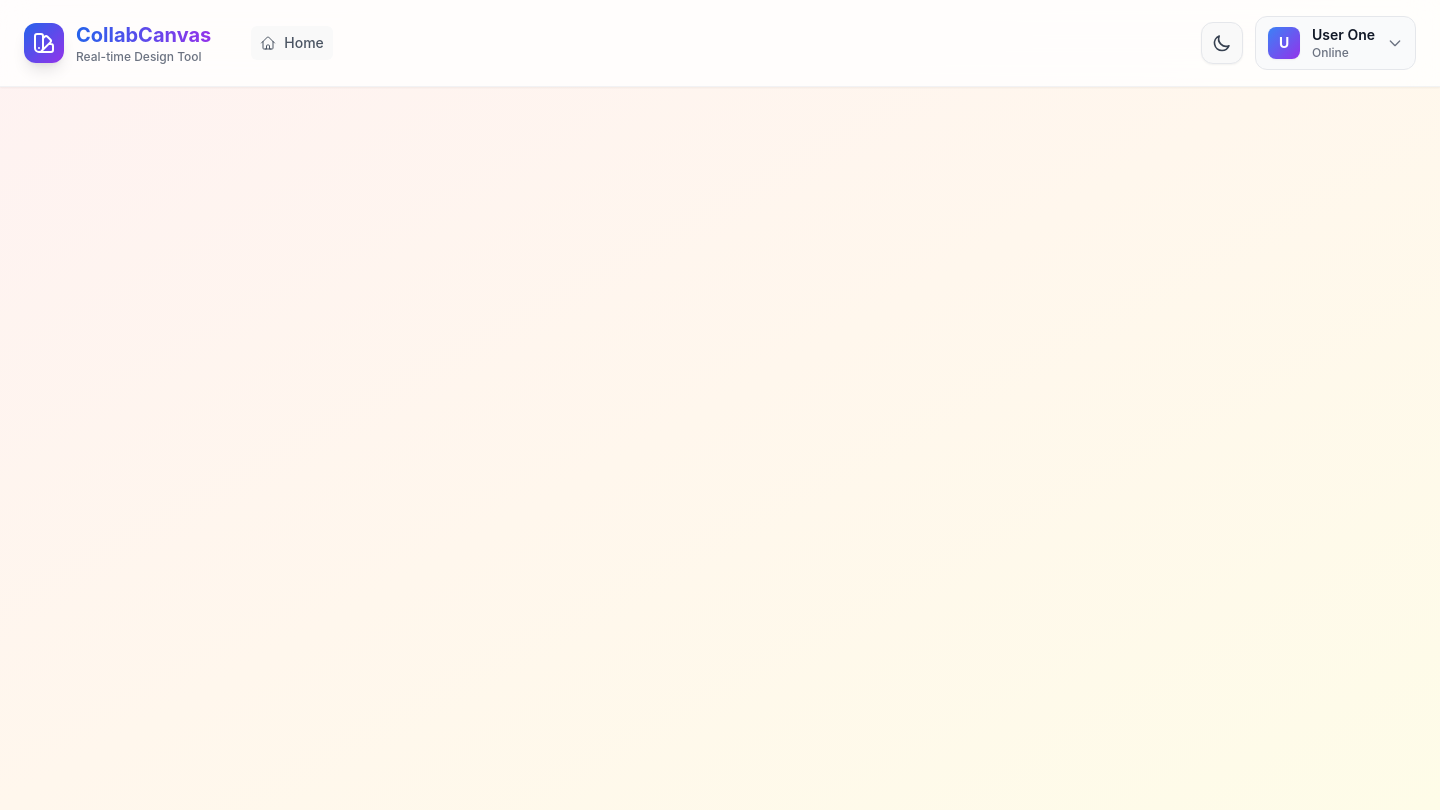
Test: Navbar › User Menu › should close user menu when clicking outside
Click the text "User One".
click(1344, 35)  # box [1312, 25, 1375, 45]
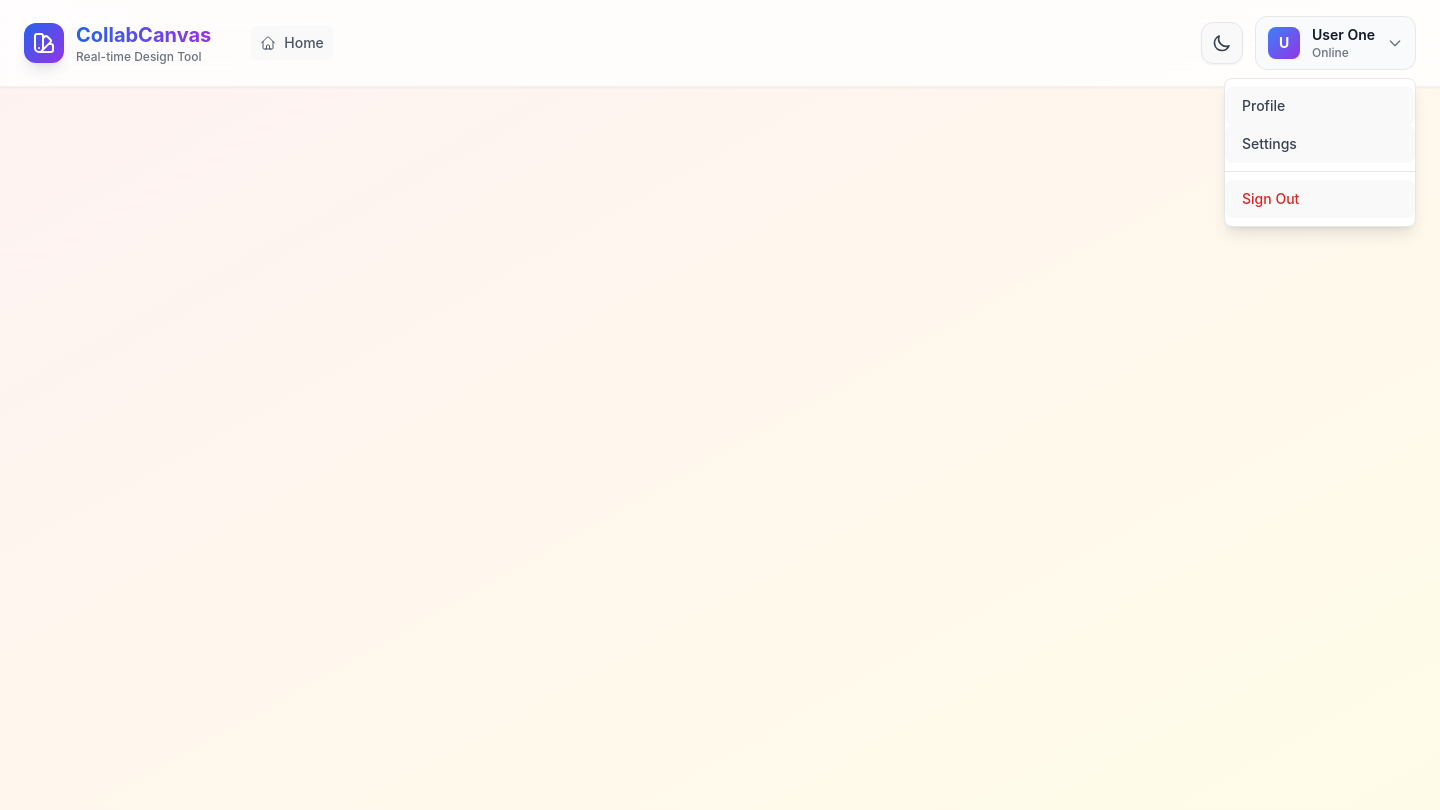
Result: the button "Profile" is shown at [1225, 87, 1415, 125]
Click outside
Press the mouse on the element that starts with "CollabCanvas" at (720, 405), box [0, 0, 1439, 809]
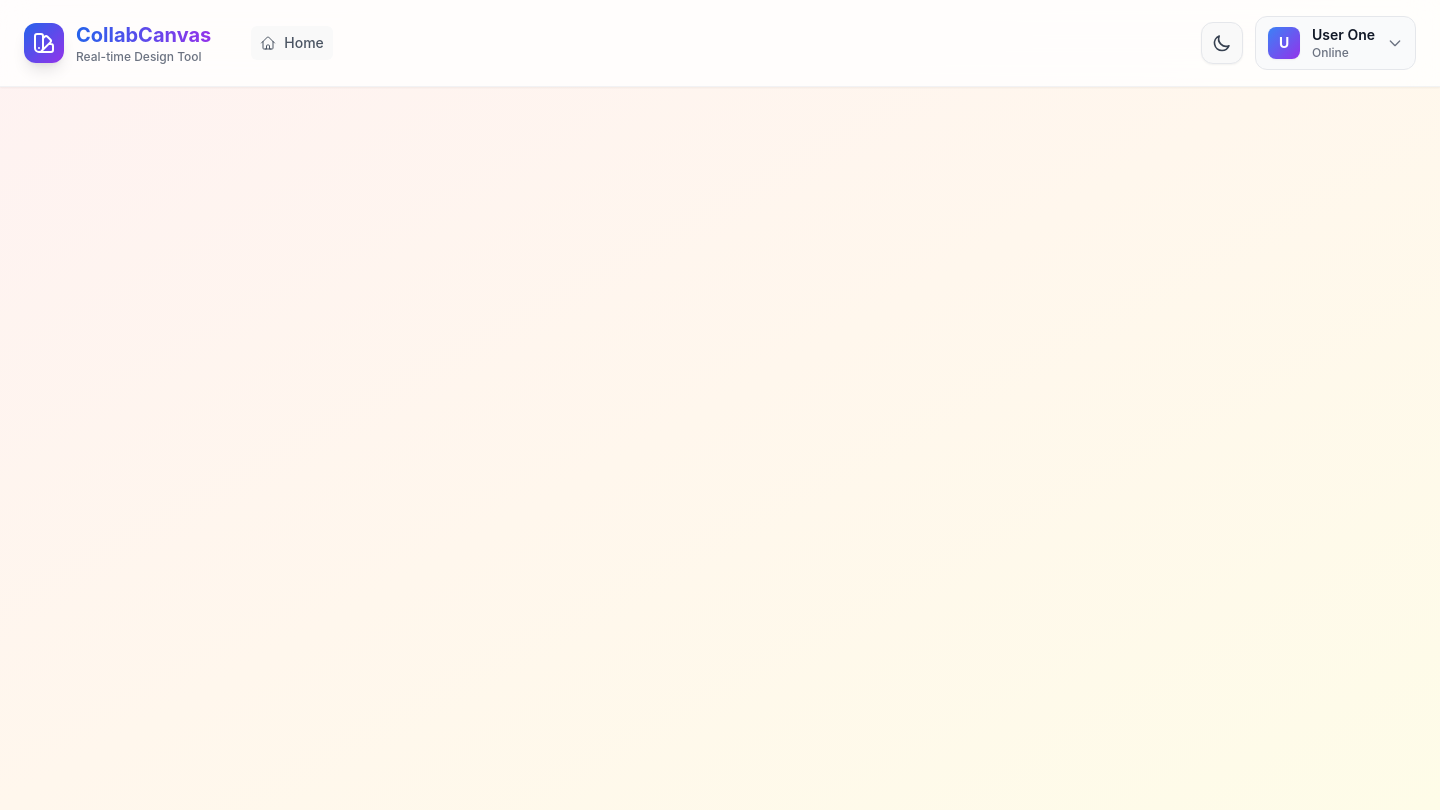
Result: the button "Profile" is gone
